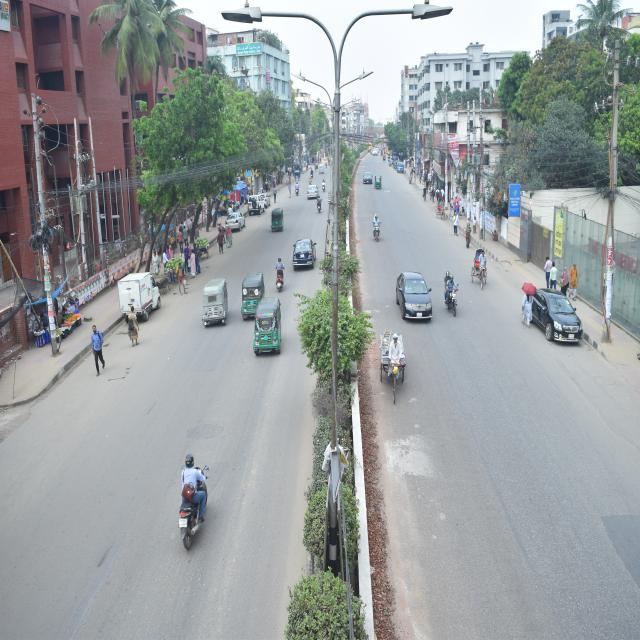car: (529, 282, 586, 348), (394, 264, 434, 324), (290, 234, 320, 273), (222, 212, 248, 233), (246, 193, 268, 216), (361, 170, 374, 188), (307, 183, 318, 200)
motorbike: (178, 456, 207, 557), (443, 266, 462, 324), (274, 255, 288, 292), (371, 210, 384, 244), (314, 190, 326, 220)
pickup-van: (116, 270, 167, 323)
